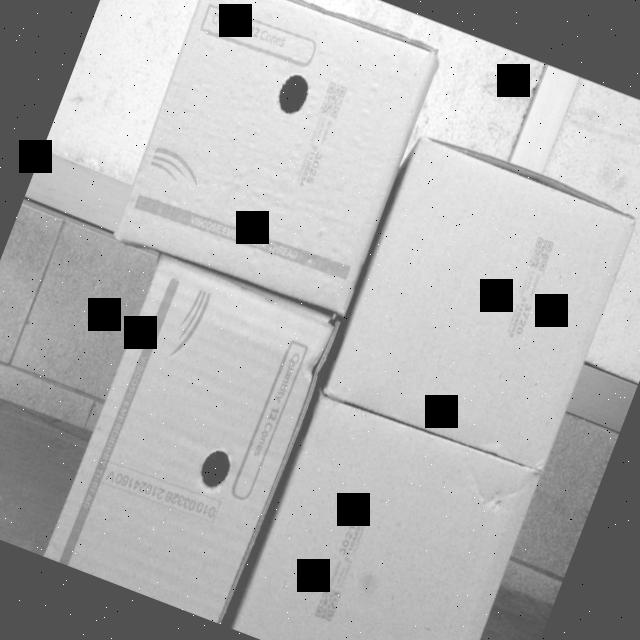box: (323, 131, 640, 483), (110, 0, 444, 328), (42, 261, 336, 625), (227, 387, 543, 640)
